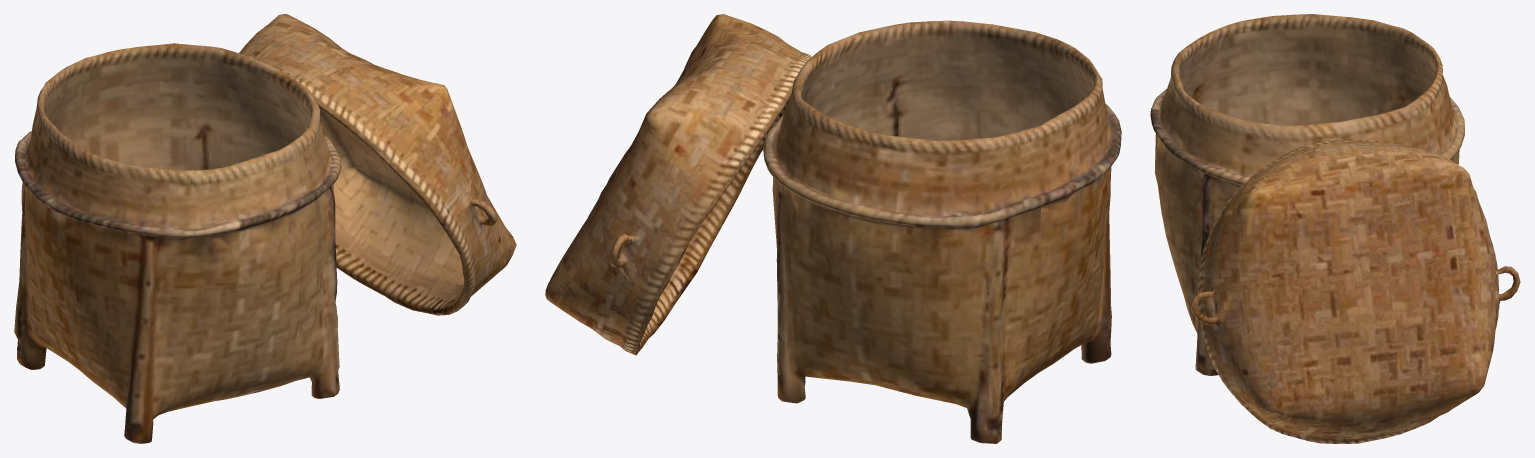
The model's file is wicker_basket_02.glb.
3 views of the same model, side by side, from view 1: azimuth 30°, elevation 25°; view 2: azimuth 150°, elevation 25°; view 3: azimuth 270°, elevation 25° (orthographic). The views are drawn at different scales.
Visible parts, largest first — view 1: wicker_basket_02_base; view 2: wicker_basket_02_base; view 3: wicker_basket_02_base.
Boxes of the visible parts, x1=… form: wicker_basket_02_base: x1=14, y1=14, x2=516, y2=443; wicker_basket_02_base: x1=545, y1=14, x2=1121, y2=443; wicker_basket_02_base: x1=1150, y1=14, x2=1520, y2=443.
Size of the model in its own units: 0.3469 by 0.2005 by 0.2545.
1 material, 1 textured.
